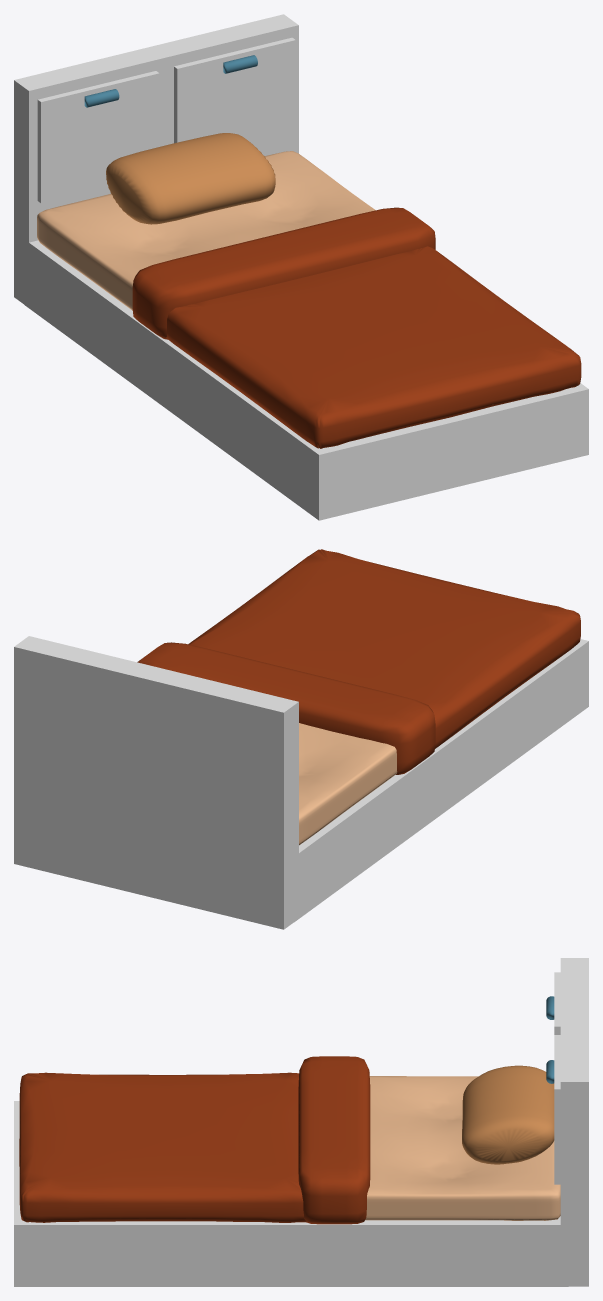
File: bed_tier8.fbx
3 views of the same model, one above another, from view 1: azimuth 30°, elevation 25°; view 2: azimuth 150°, elevation 25°; view 3: azimuth 270°, elevation 25° (orthographic). The views are drawn at different scales.
Visible parts, largest first — view 1: Cube, Cube.002, Cube.001, Cylinder.012; view 2: Cube, Cube.002, Cube.001; view 3: Cube.002, Cube, Cube.001, Cylinder.012.
Boxes of the visible parts, x1,y1,x2,y2 form: Cube: (14,14,588,520); Cube.002: (132,207,581,448); Cube.001: (37,151,375,310); Cylinder.012: (106,133,275,224); Cube: (14,636,588,929); Cube.002: (137,549,580,774); Cube.001: (299,723,397,845); Cube.002: (19,1056,370,1224); Cube: (14,958,588,1286); Cube.001: (365,1076,560,1220); Cylinder.012: (462,1065,554,1164).
Size of the model in its own units: 196 by 145 by 370.
